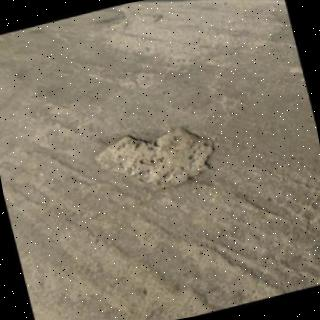pothole: (94, 128, 215, 188)
